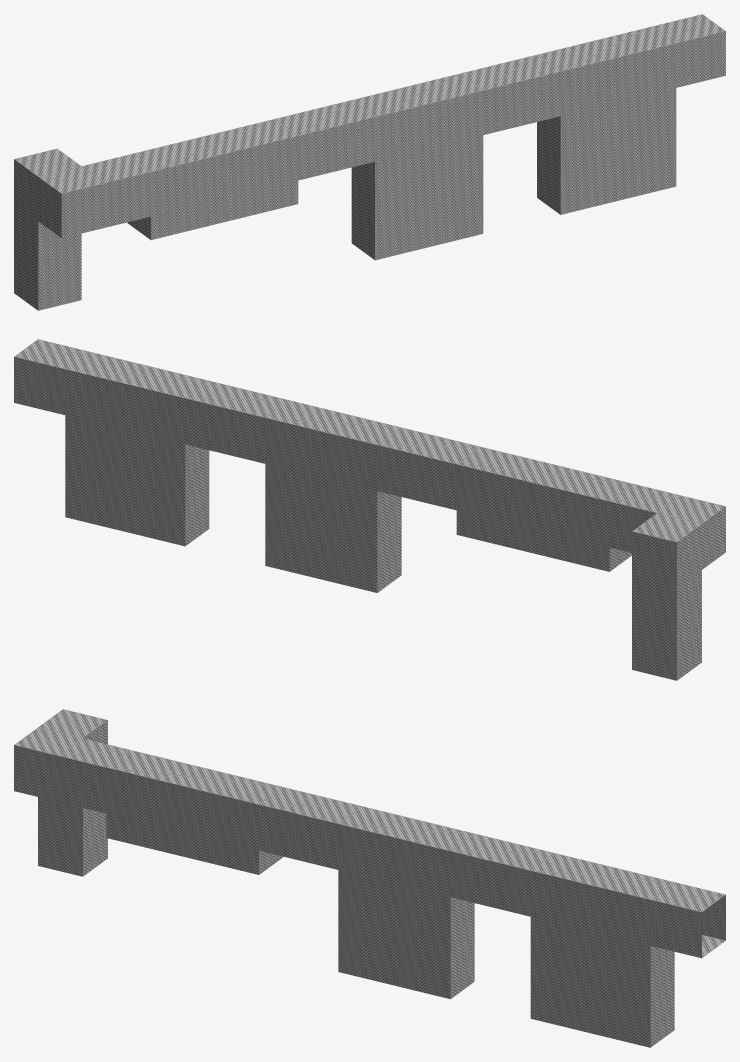
The model's file is prv1f-3.obj.
The picture shows the model from 3 angles, top to bottom: view 1: azimuth 30°, elevation 25°; view 2: azimuth 150°, elevation 25°; view 3: azimuth 330°, elevation 25°; orthographic projection. The views are drawn at different scales.
Visible parts, largest first — view 1: Cube.002; view 2: Cube.002; view 3: Cube.002.
Part boxes in pixels (<box>): Cube.002: <box>14,14,725,310</box>; Cube.002: <box>14,339,725,680</box>; Cube.002: <box>14,709,725,1047</box>.
Size of the model in its own units: 272 by 55.96 by 33.71.
